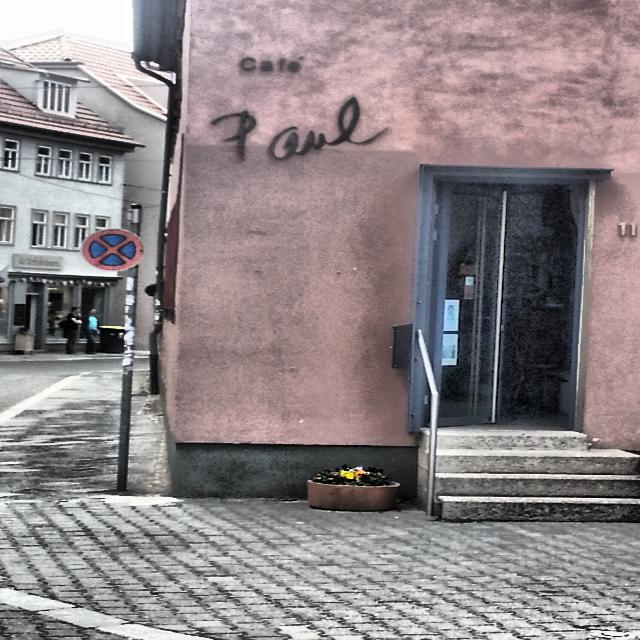escada: (416, 429, 640, 522)
